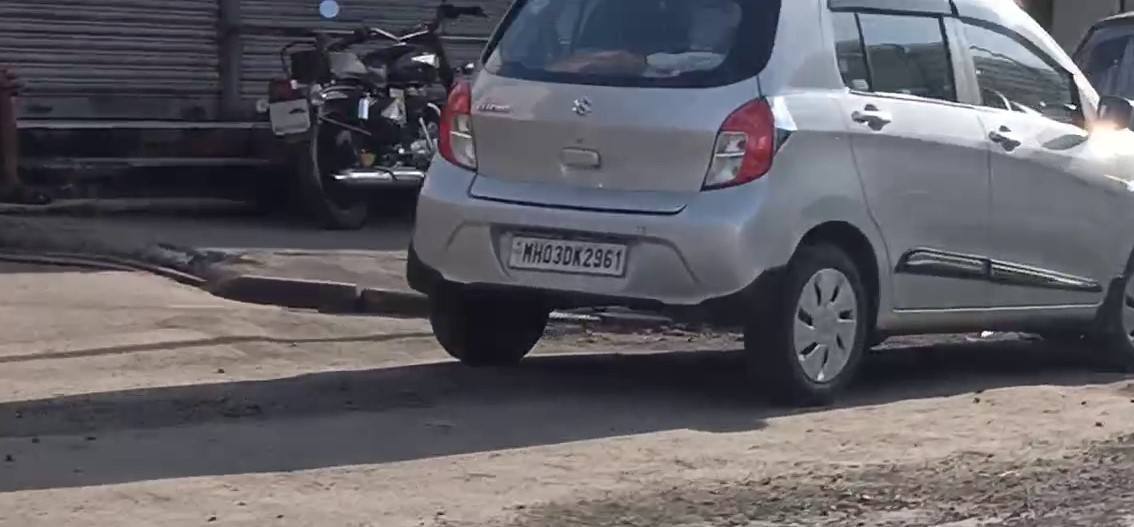MH03DK2961: (508, 234, 628, 277)
